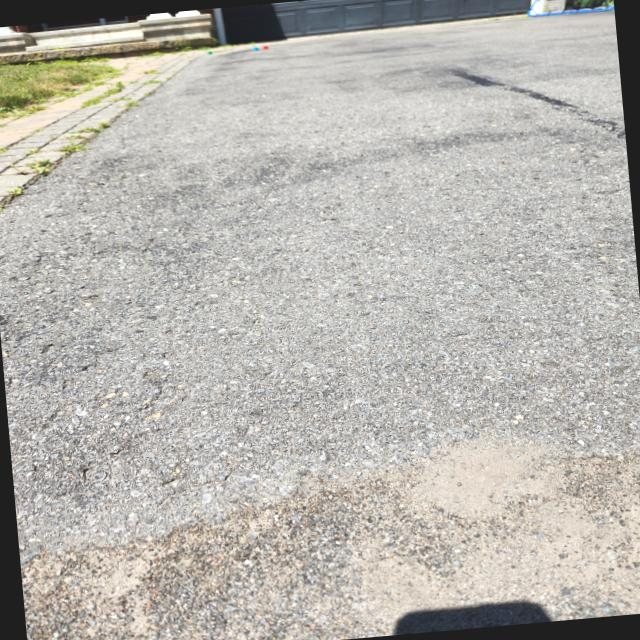bluecube: (252, 46, 258, 50)
green cube: (206, 50, 212, 54)
red cube: (262, 46, 268, 50)
